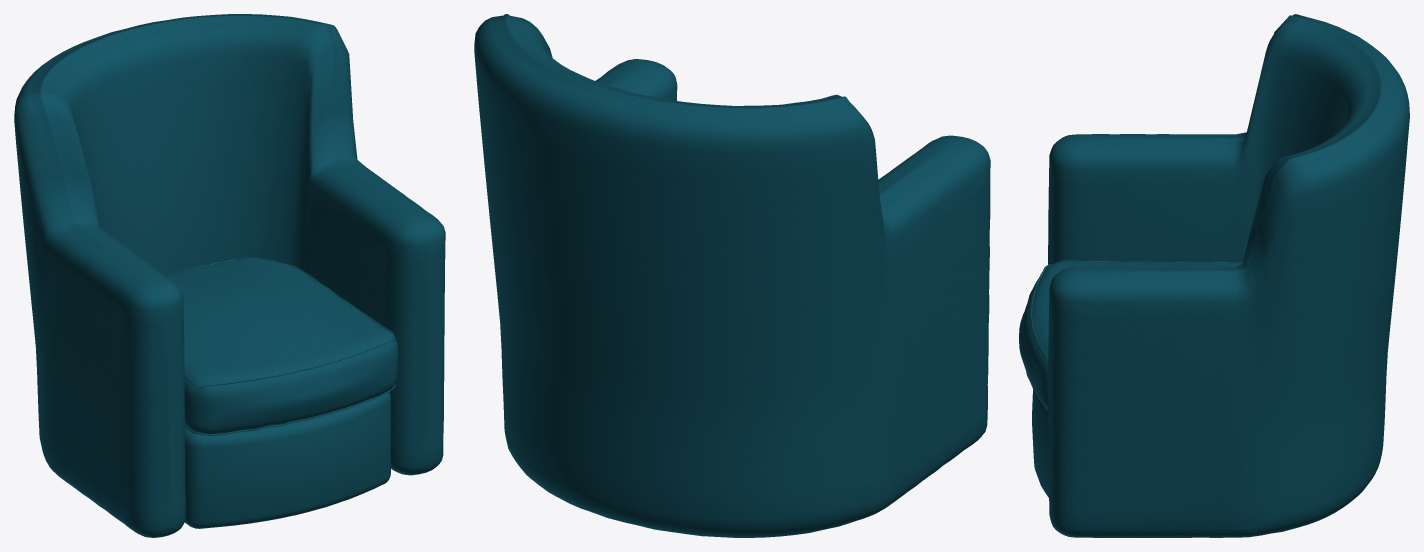
Rendered from stanza-armchair-01-mobile.glb.
3 renders of one model, left to right at view 1: azimuth 30°, elevation 25°; view 2: azimuth 150°, elevation 25°; view 3: azimuth 270°, elevation 25°, orthographic. The views are drawn at different scales.
Visible parts, largest first — view 1: shell, seat_cushion, drum_base, seat_cushion_welt_top; view 2: shell; view 3: shell, seat_cushion, drum_base.
Boxes of the visible parts, <box> form: shell: <box>14,14,445,537</box>; seat_cushion: <box>165,257,398,435</box>; drum_base: <box>184,392,390,528</box>; seat_cushion_welt_top: <box>165,259,395,388</box>; shell: <box>474,14,990,537</box>; shell: <box>1048,14,1409,537</box>; seat_cushion: <box>1019,260,1242,408</box>; drum_base: <box>1032,389,1048,497</box>.
Size of the model in its own units: 0.9809 by 1.05 by 0.9718.
2 materials, 2 textured.
